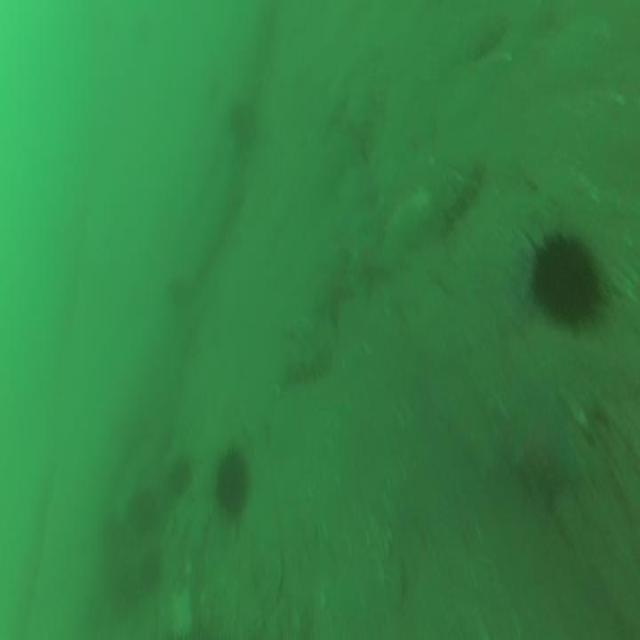echinus: (517, 210, 615, 348), (212, 441, 255, 526), (122, 482, 157, 536), (163, 449, 197, 502)
holothurian: (434, 154, 486, 235)
starfish: (505, 372, 582, 522)
